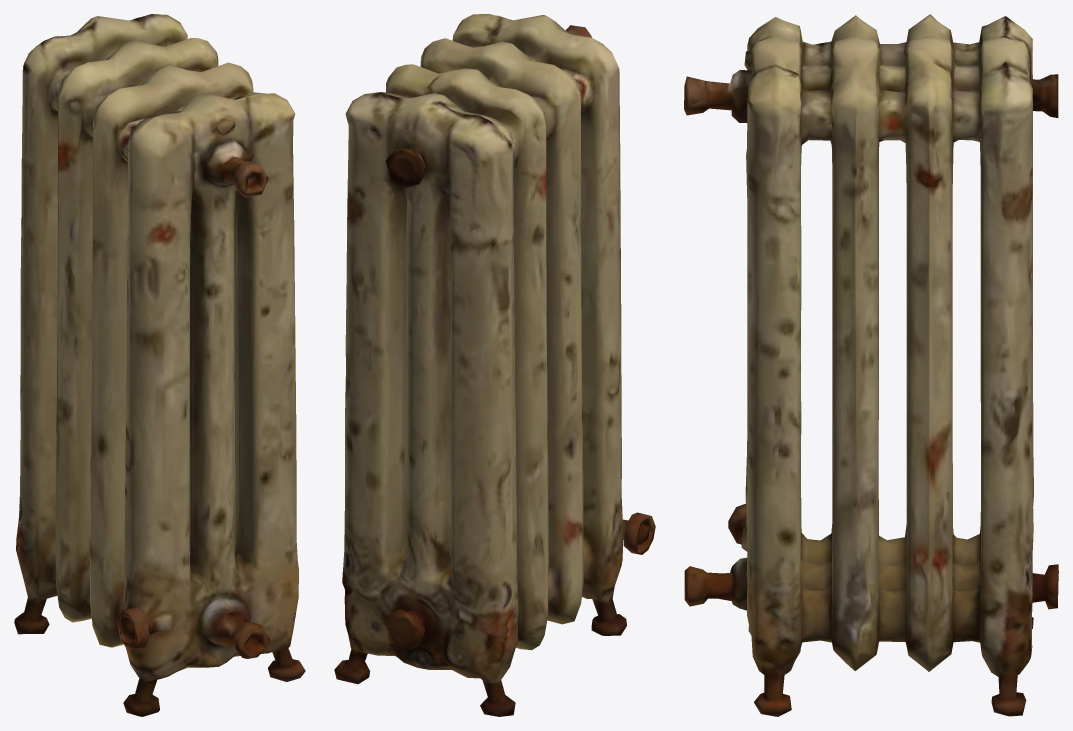
Rendered from st_radiator.glb.
The picture shows the model from 3 angles, left to right: view 1: azimuth 30°, elevation 25°; view 2: azimuth 150°, elevation 25°; view 3: azimuth 270°, elevation 25°; orthographic projection. The views are drawn at different scales.
Parts seen in each view (by area): view 1: tripo_node_041b80fc-84bd-4fab-be1e-6403f0440dfe; view 2: tripo_node_041b80fc-84bd-4fab-be1e-6403f0440dfe; view 3: tripo_node_041b80fc-84bd-4fab-be1e-6403f0440dfe.
Boxes of the visible parts, <box> form: tripo_node_041b80fc-84bd-4fab-be1e-6403f0440dfe: <box>14,14,305,716</box>; tripo_node_041b80fc-84bd-4fab-be1e-6403f0440dfe: <box>334,14,655,716</box>; tripo_node_041b80fc-84bd-4fab-be1e-6403f0440dfe: <box>684,14,1058,716</box>.
Bounding box in the file's own units: 0.3284 × 1 × 0.5376.
Materials: 1 (1 with a texture image).
